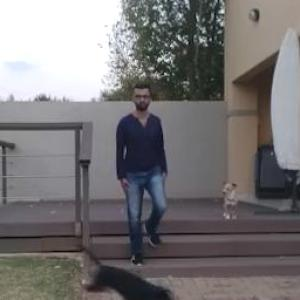follow: (114, 82, 165, 295)
